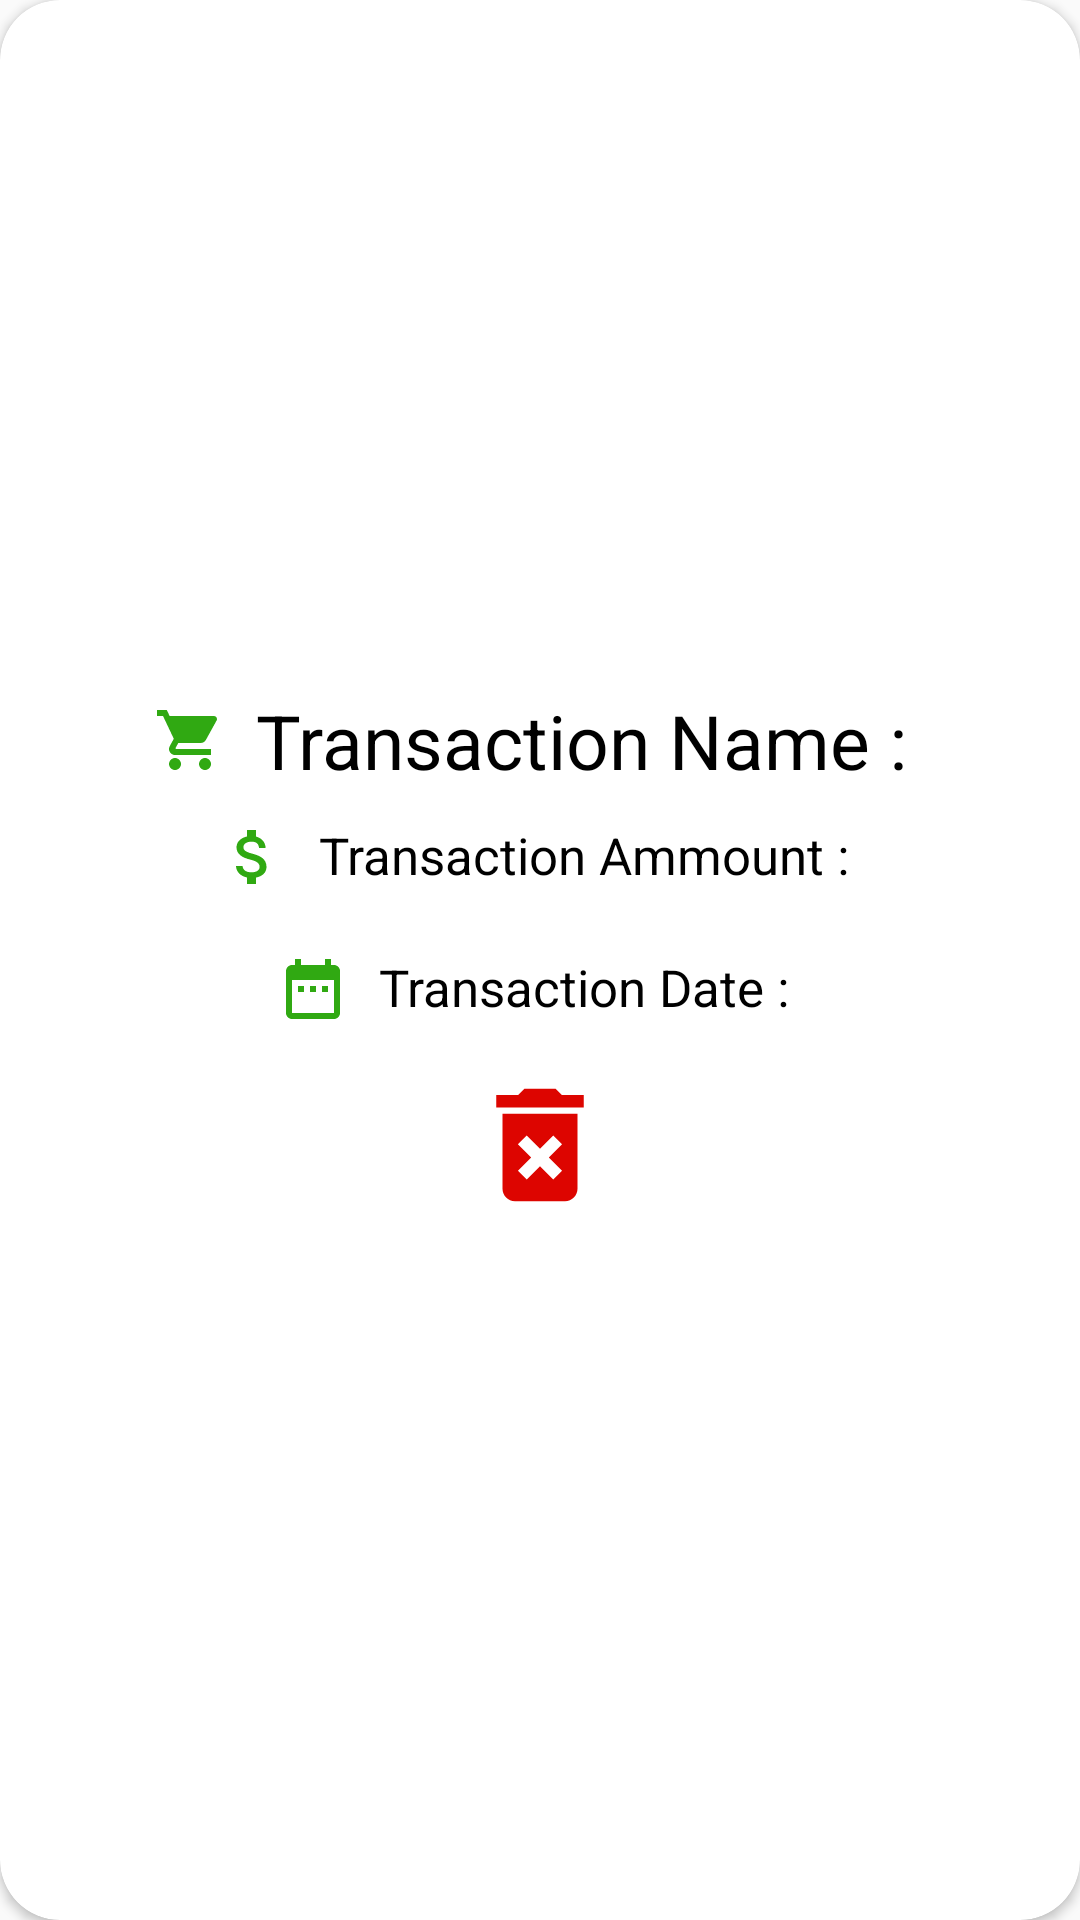

Named icons in this screenshot (1080x1920) and their centers, (x=x, y=y):
delete forever: (x=540, y=1145)
